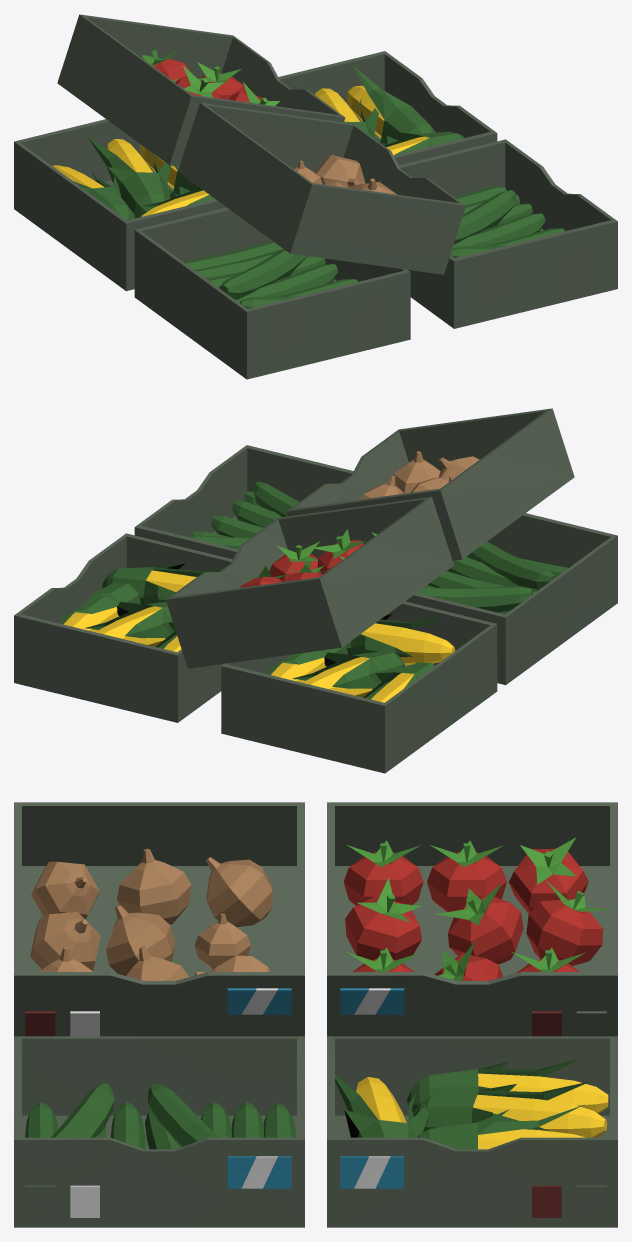
The model's file is SM_fruitBox_01.glb.
The picture shows the model from 3 angles, top to bottom: view 1: azimuth 30°, elevation 25°; view 2: azimuth 150°, elevation 25°; view 3: azimuth 270°, elevation 25°; orthographic projection. The views are drawn at different scales.
Visible parts, largest first — view 1: SM_fruitBox_01; view 2: SM_fruitBox_01; view 3: SM_fruitBox_01.
Part boxes in pixels (bbox=[...]): SM_fruitBox_01: bbox=[14, 14, 617, 379]; SM_fruitBox_01: bbox=[14, 408, 617, 773]; SM_fruitBox_01: bbox=[14, 802, 617, 1227].
Bounding box in the file's own units: 0.8799 × 0.41 × 0.9519.
Materials: 1 (1 with a texture image).
